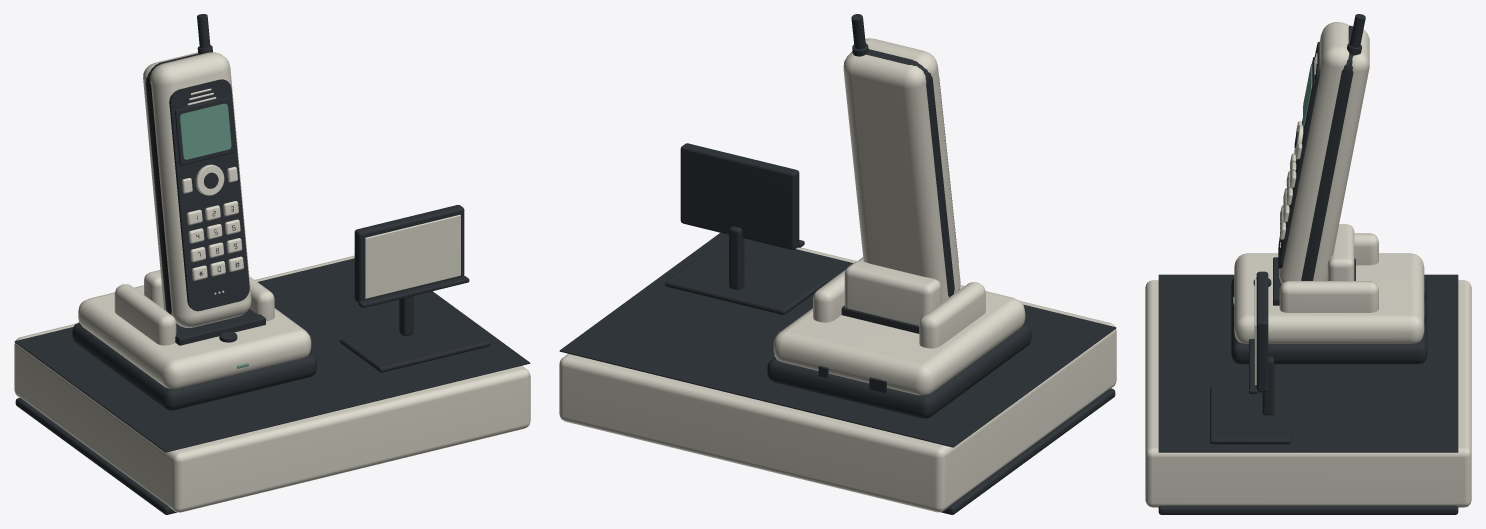
Rendered from edited.glb.
The picture shows the model from 3 angles, left to right: view 1: azimuth 30°, elevation 25°; view 2: azimuth 150°, elevation 25°; view 3: azimuth 270°, elevation 25°; orthographic projection. The views are drawn at different scales.
Visible parts, largest first — view 1: BATCH_Mineral, BATCH_Graphite, BATCH_LCD; view 2: BATCH_Mineral, BATCH_Graphite; view 3: BATCH_Graphite, BATCH_Mineral.
Part boxes in pixels (left/top/right/bottom): BATCH_Mineral: left=14, top=52, right=530, bottom=512; BATCH_Graphite: left=14, top=14, right=530, bottom=514; BATCH_LCD: left=179, top=103, right=248, bottom=368; BATCH_Mineral: left=559, top=38, right=1116, bottom=512; BATCH_Graphite: left=559, top=14, right=1116, bottom=514; BATCH_Graphite: left=1158, top=14, right=1458, bottom=514; BATCH_Mineral: left=1145, top=22, right=1471, bottom=507.
Size of the model in its own units: 0.282 by 0.2907 by 0.22.
